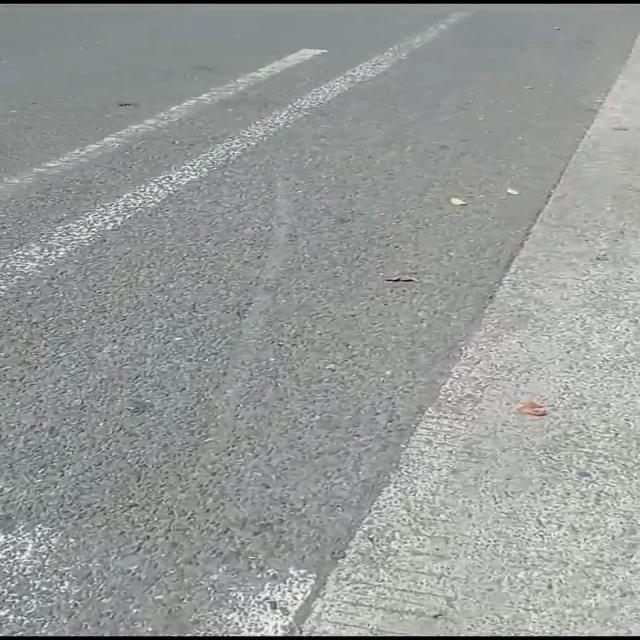Sambungan: (288, 39, 640, 640)
